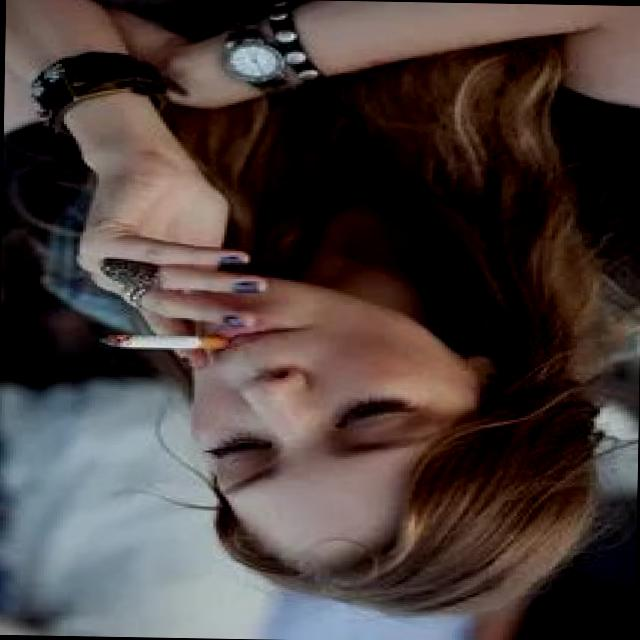smoke: (90, 324, 250, 359)
